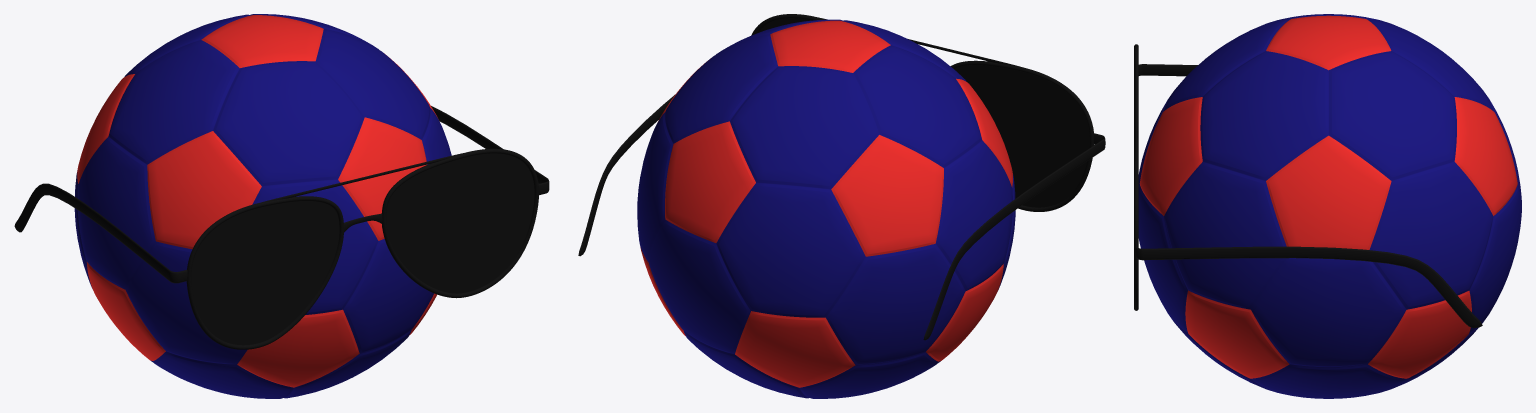
Rendered from Balonfran.glb.
3 views of the same model, side by side, from view 1: azimuth 30°, elevation 25°; view 2: azimuth 150°, elevation 25°; view 3: azimuth 270°, elevation 25° (orthographic).
Visible parts, largest first — view 1: Esfera geodésica, Círculo Bezier, Círculo Bezier.001, Cubo.002, Cubo.003, Cubo.001; view 2: Esfera geodésica, Círculo Bezier, Cubo.002, Cubo.003, Círculo Bezier.001; view 3: Esfera geodésica, Cubo.003, Círculo Bezier.001, Cubo.002, Círculo Bezier.
Boxes of the visible parts, <box> form: Esfera geodésica: <box>74,14,451,398</box>; Círculo Bezier: <box>186,196,343,349</box>; Círculo Bezier.001: <box>381,148,538,298</box>; Cubo.002: <box>14,183,187,283</box>; Cubo.003: <box>431,106,549,195</box>; Cubo.001: <box>252,151,473,205</box>; Esfera geodésica: <box>637,19,1015,398</box>; Círculo Bezier: <box>950,60,1094,211</box>; Cubo.002: <box>923,133,1105,340</box>; Cubo.003: <box>578,95,674,256</box>; Círculo Bezier.001: <box>751,14,823,35</box>; Esfera geodésica: <box>1138,14,1521,398</box>; Cubo.003: <box>1135,243,1482,327</box>; Círculo Bezier.001: <box>1134,137,1138,310</box>; Cubo.002: <box>1138,64,1197,76</box>; Círculo Bezier: <box>1134,44,1138,138</box>.
Bounding box in the file's own units: 2 × 1.75 × 1.76.
